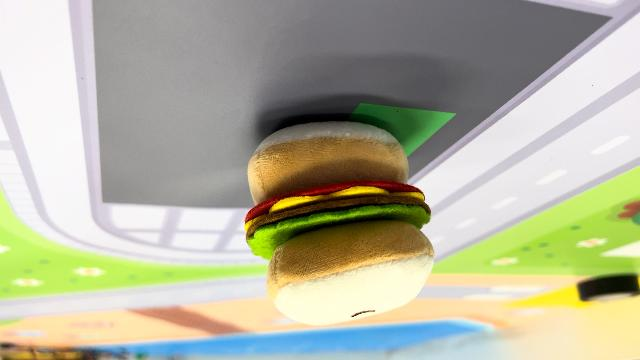sandwich: (240, 117, 438, 325)
